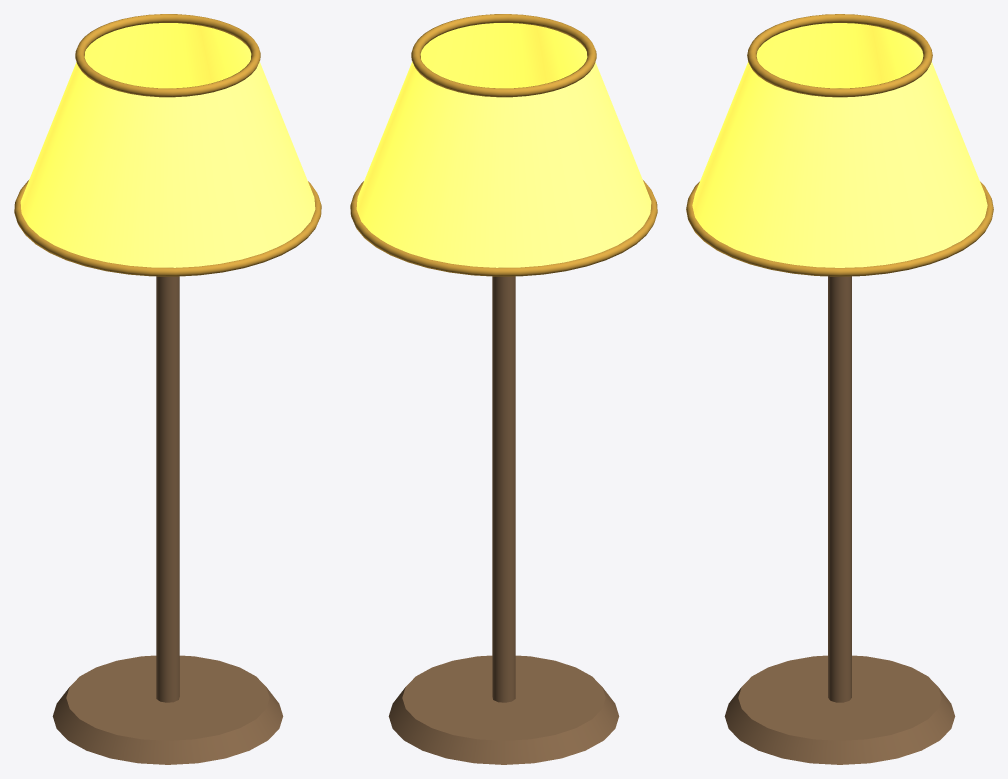
File: lamp.glb
3 views of the same model, side by side, from view 1: azimuth 30°, elevation 25°; view 2: azimuth 150°, elevation 25°; view 3: azimuth 270°, elevation 25° (orthographic).
Size of the model in its own units: 0.908 by 2.16 by 0.908.
